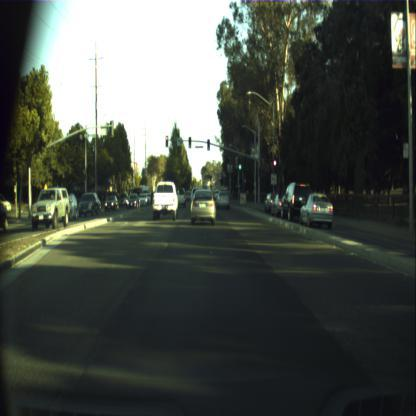Green: (238, 155, 241, 170), (207, 138, 210, 150), (188, 136, 191, 148)
Red: (273, 160, 277, 174)
RedLeft: (165, 136, 168, 146)
off: (244, 155, 247, 170)
